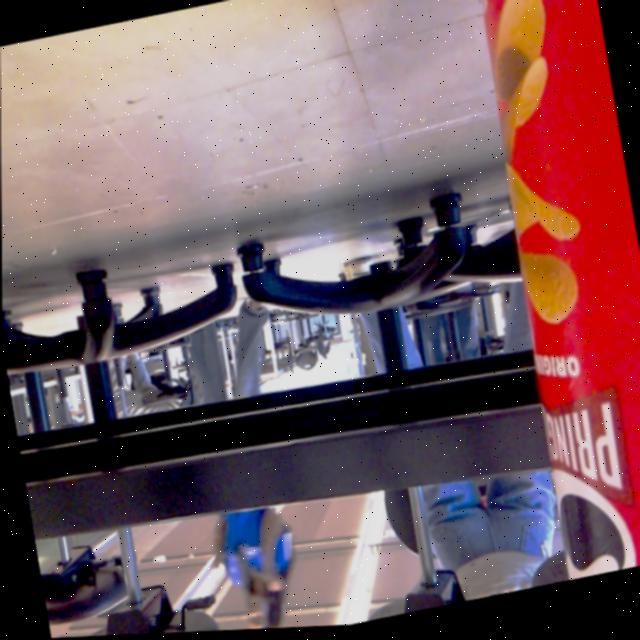redpringles: (429, 0, 640, 596)
